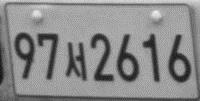1: (141, 32, 160, 83)
2: (89, 32, 114, 82)
6: (167, 33, 191, 82), (116, 33, 139, 81)
7: (37, 32, 58, 79)
9: (13, 32, 35, 79)
서: (64, 41, 87, 81)
